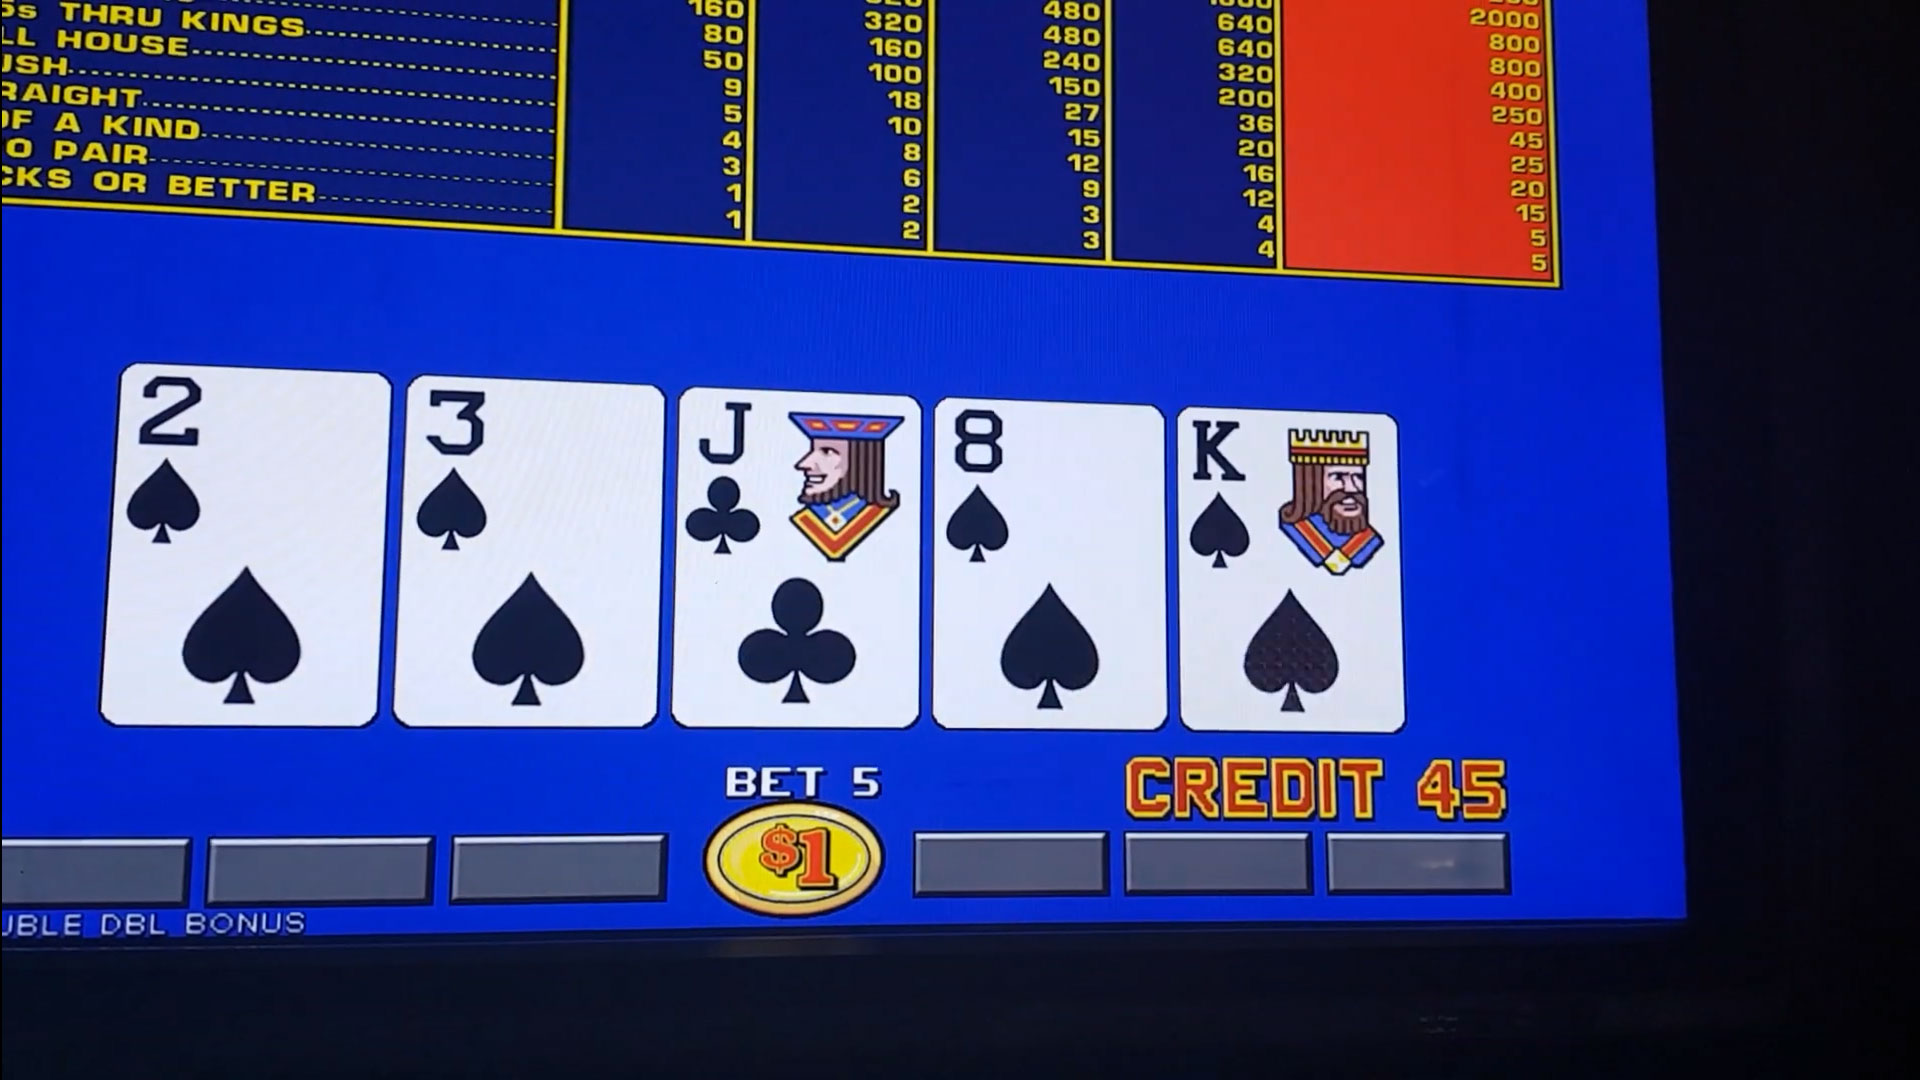CJ: (679, 400, 916, 578)
S2: (129, 373, 376, 553)
S3: (411, 386, 655, 564)
S8: (936, 410, 1160, 588)
SK: (1179, 415, 1400, 588)
